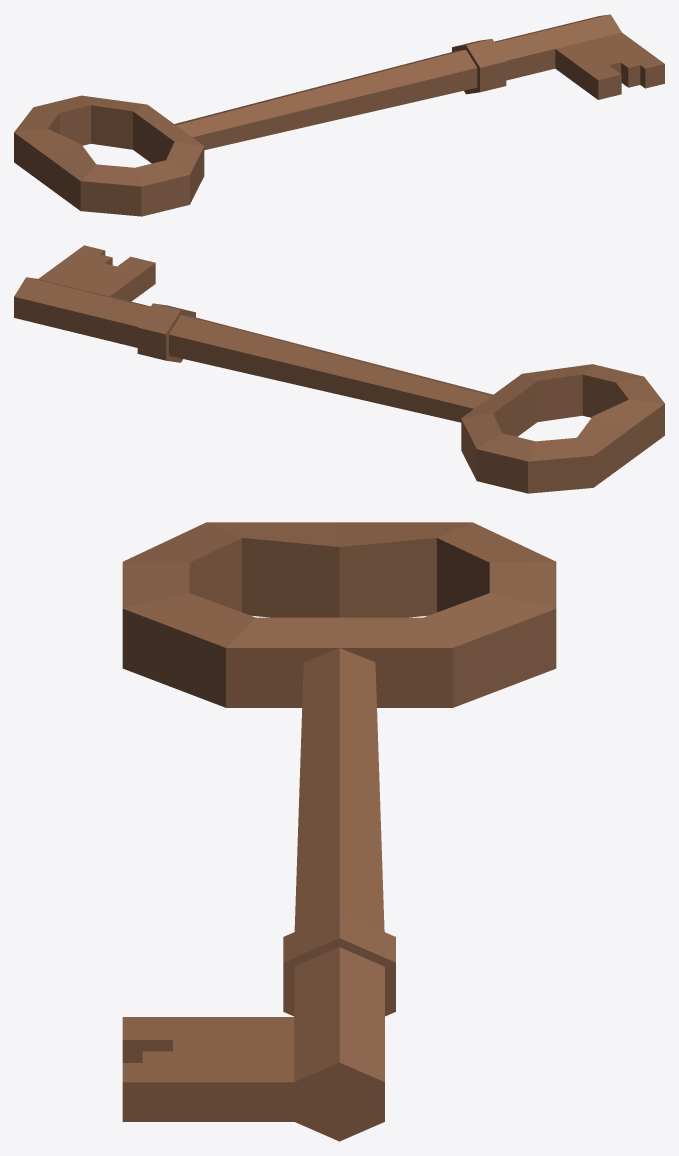
Rendered from chave.fbx.
The picture shows the model from 3 angles, top to bottom: view 1: azimuth 30°, elevation 25°; view 2: azimuth 150°, elevation 25°; view 3: azimuth 270°, elevation 25°; orthographic projection. The views are drawn at different scales.
Visible parts, largest first — view 1: Chave; view 2: Chave; view 3: Chave.
Boxes of the visible parts, x1,y1,x2,y2 form: Chave: (14, 14, 664, 216); Chave: (14, 245, 664, 493); Chave: (122, 522, 556, 1141).
Bounding box in the file's own units: 6 × 0.5 × 2.
